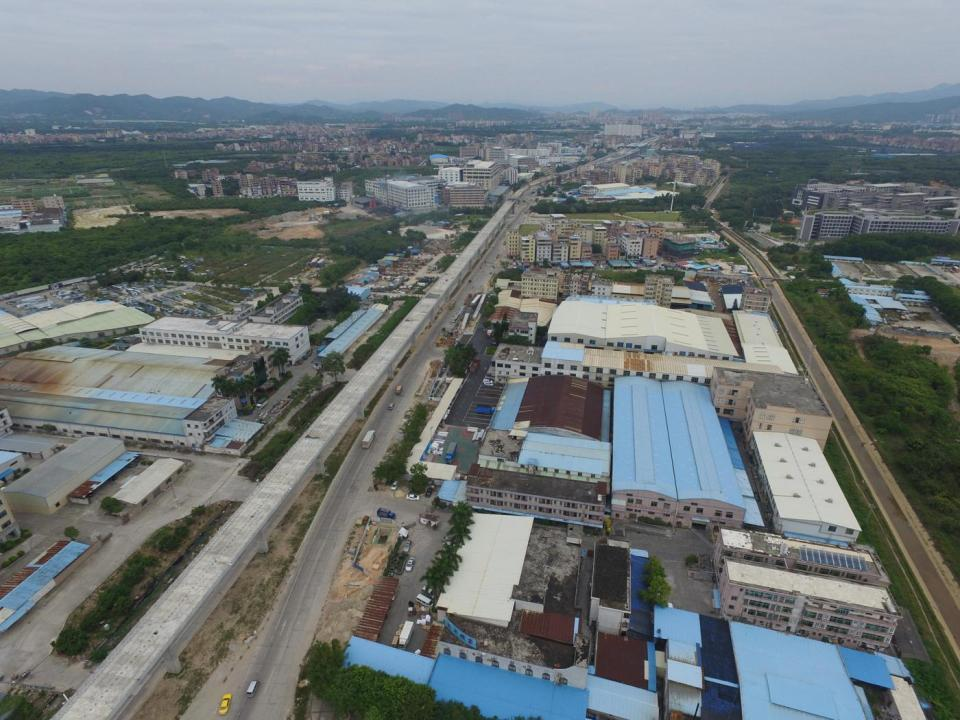bus: (448, 300, 456, 310), (506, 222, 511, 228)
car: (218, 693, 232, 715), (421, 585, 437, 599), (404, 558, 416, 572), (403, 539, 412, 553), (406, 493, 420, 501), (442, 540, 456, 548), (442, 536, 455, 544), (442, 546, 454, 554), (425, 487, 432, 498), (391, 481, 398, 491), (483, 381, 493, 387), (482, 380, 492, 386), (484, 376, 494, 382), (468, 279, 473, 283), (489, 271, 493, 275), (496, 253, 500, 256), (493, 257, 496, 260), (496, 255, 498, 259), (492, 245, 494, 247)
truck: (398, 620, 414, 651), (376, 507, 396, 521), (362, 429, 376, 449), (445, 442, 457, 464), (476, 403, 496, 416), (470, 357, 480, 374), (256, 397, 268, 410), (464, 294, 473, 305), (396, 385, 403, 395), (486, 329, 493, 338)
van: (416, 592, 434, 609), (245, 679, 259, 697), (388, 402, 395, 409)
